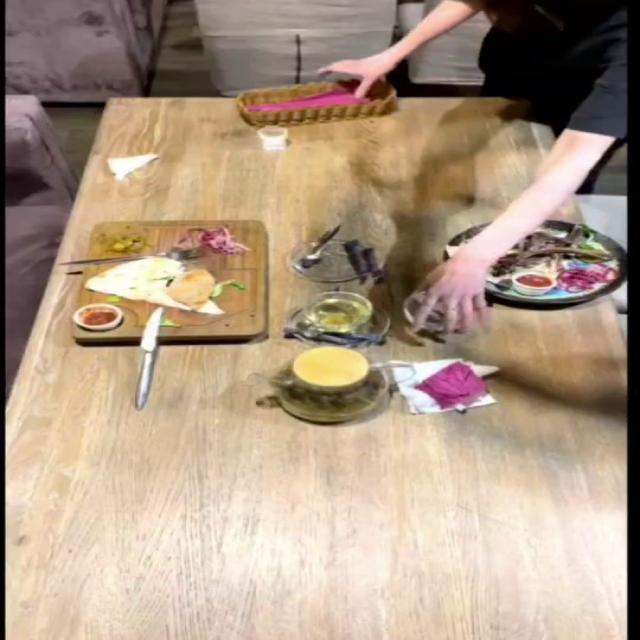meat: (452, 206, 640, 313)
tea: (235, 352, 448, 416)
